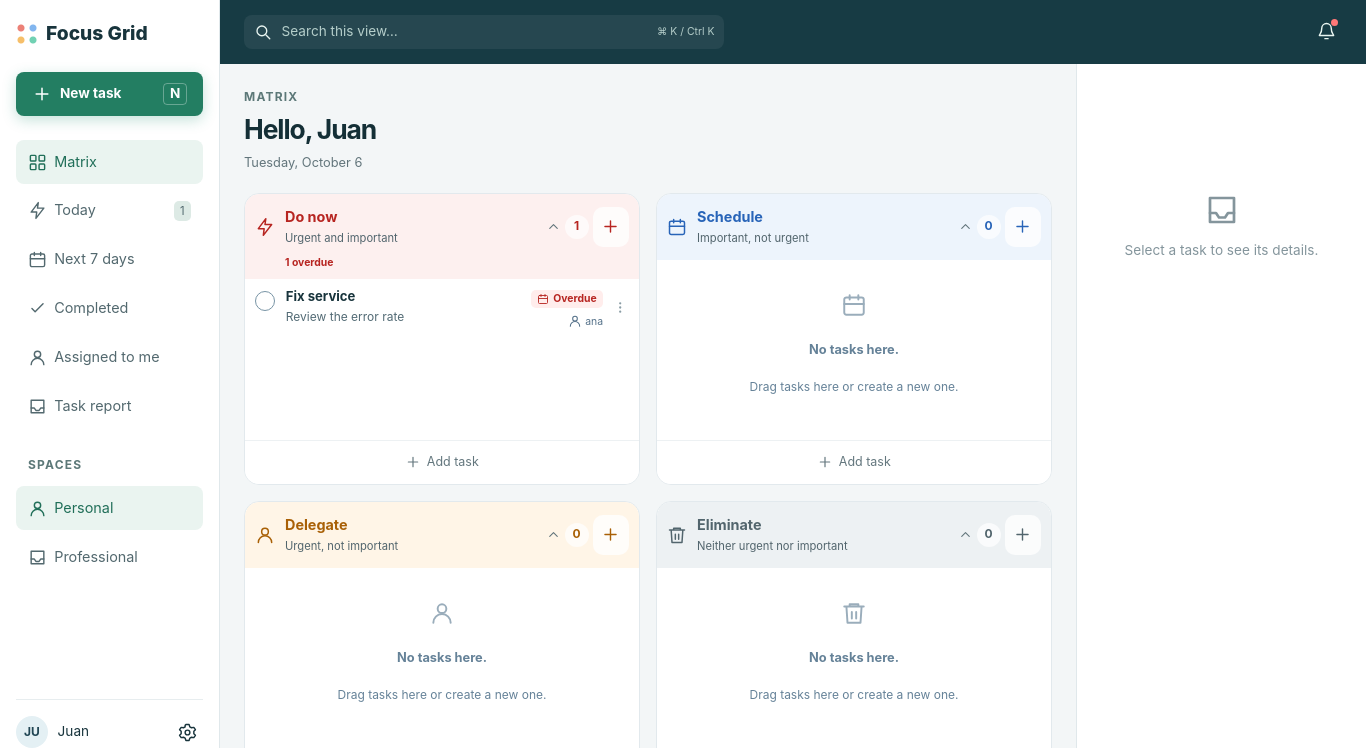
Scenario: compact task workspace › excludes completed tasks from every quadrant, counts, search and notifications
Expected: the element "Fix service" is shown, [245,279,639,338]
Expected: the text named "0 tasks" is shown, [977,522,1001,546]
Click the heading named "Notifications" at (1327, 30), box [1317,19,1338,42]
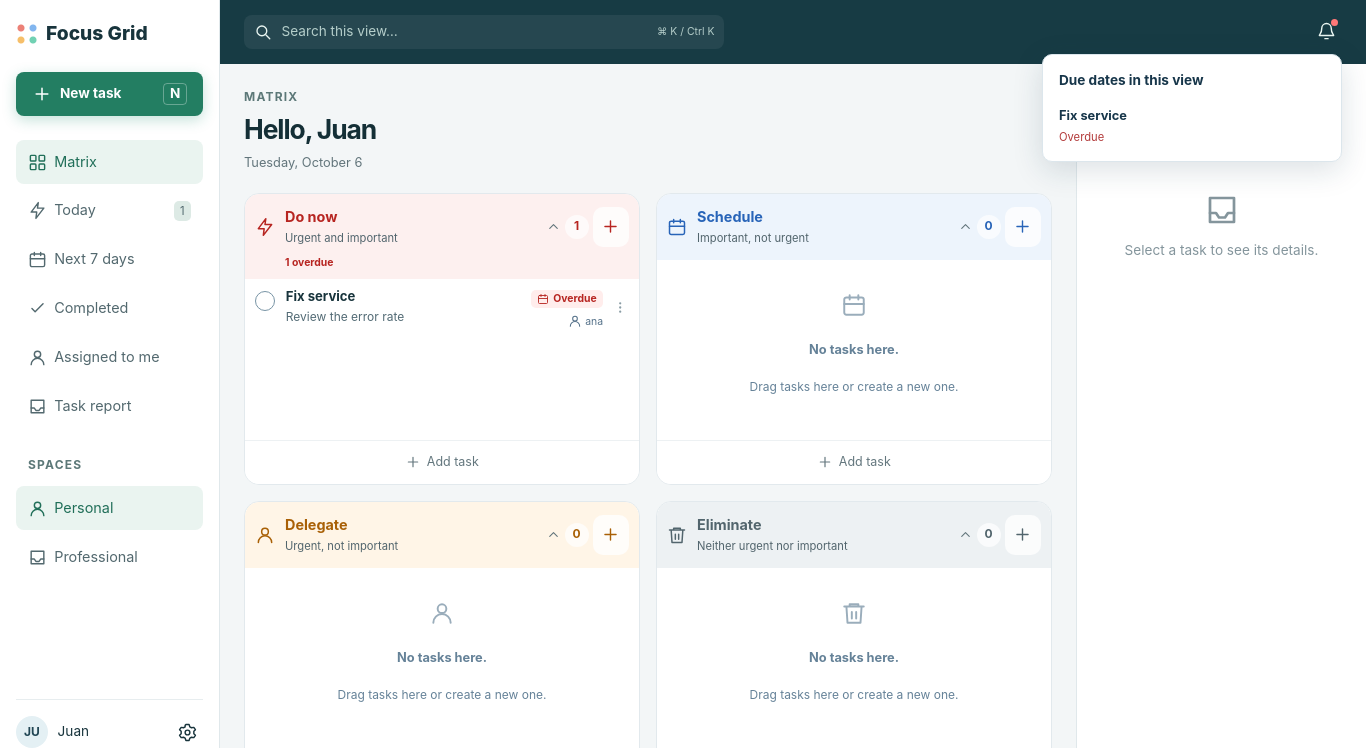
Expected: the button "Finished cleanup" is not shown
Type "Finished cleanup" into the search field at (464, 32), box [280,21,649,43]
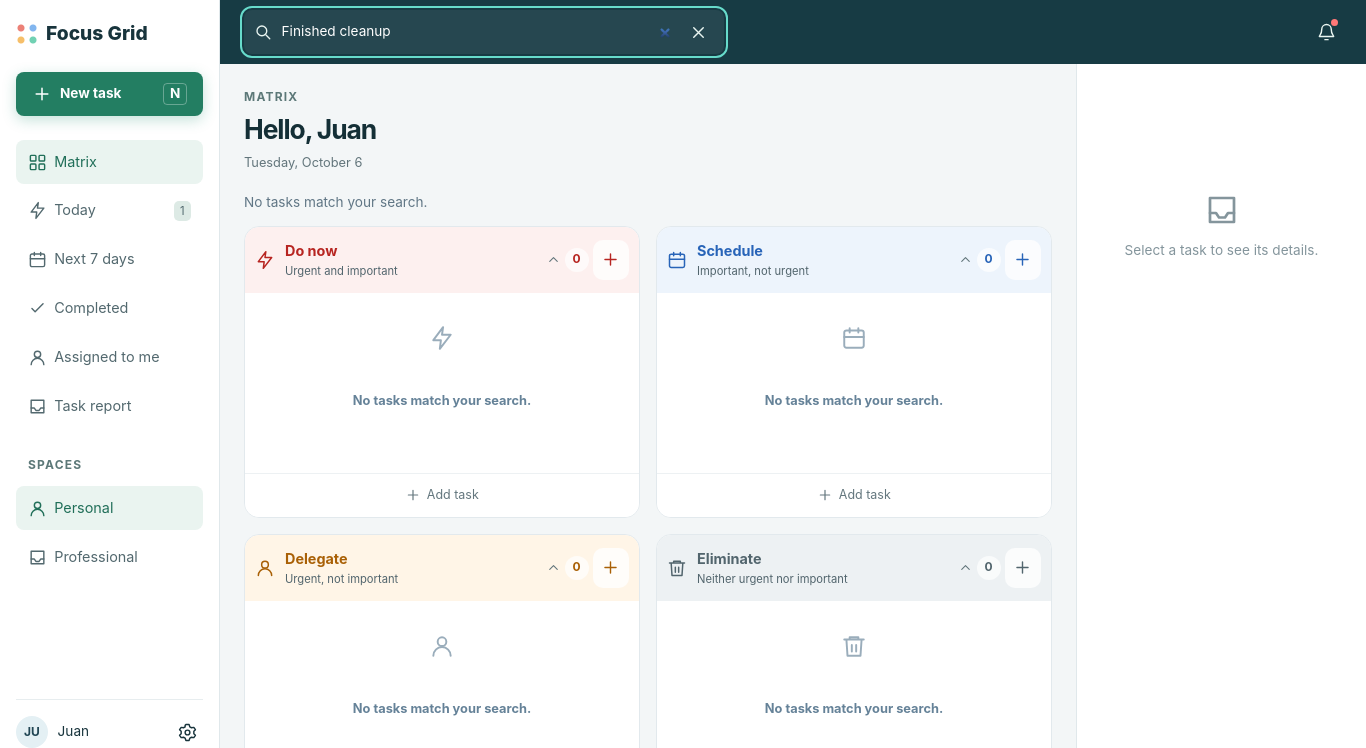
Expected: the message reads "No tasks match your search.", [244,194,428,210]
